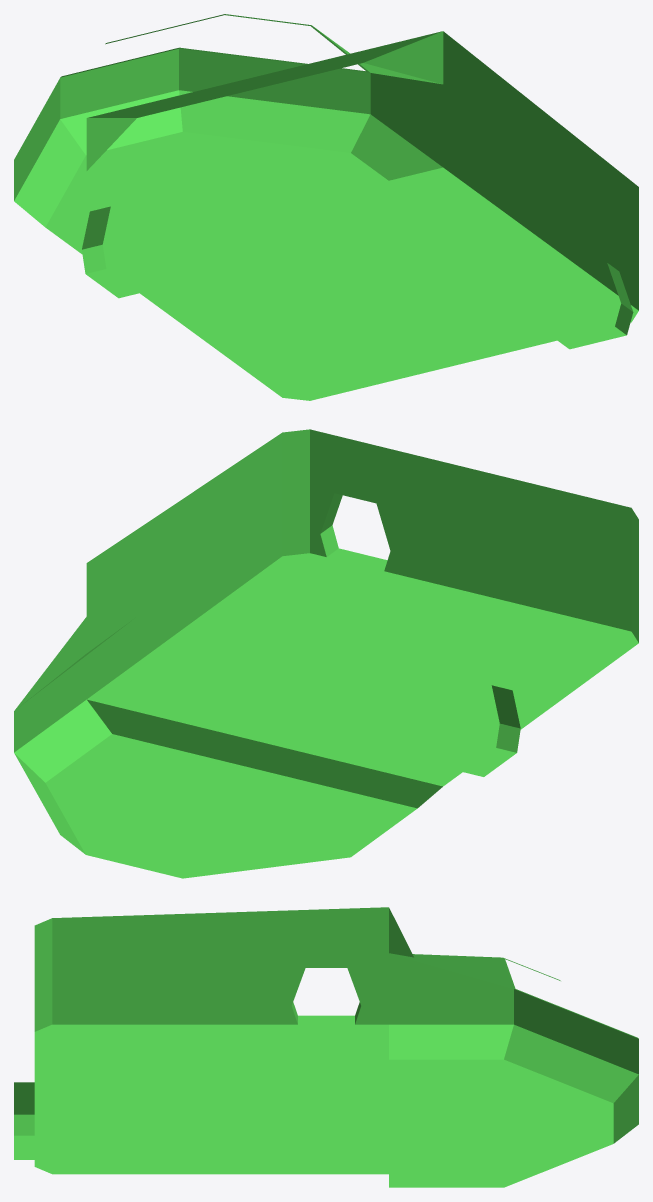
Rendered from room.002.glb.
3 views of the same model, one above another, from view 1: azimuth 30°, elevation 25°; view 2: azimuth 150°, elevation 25°; view 3: azimuth 270°, elevation 25° (orthographic). The views are drawn at different scales.
Visible parts, largest first — view 1: room.002; view 2: room.002; view 3: room.002.
Part boxes in pixels (box(x1,y1,x2,y2)): room.002: box(14, 14, 638, 400); room.002: box(14, 429, 638, 878); room.002: box(14, 907, 638, 1187).
Size of the model in its own units: 18 by 7.5 by 30.
